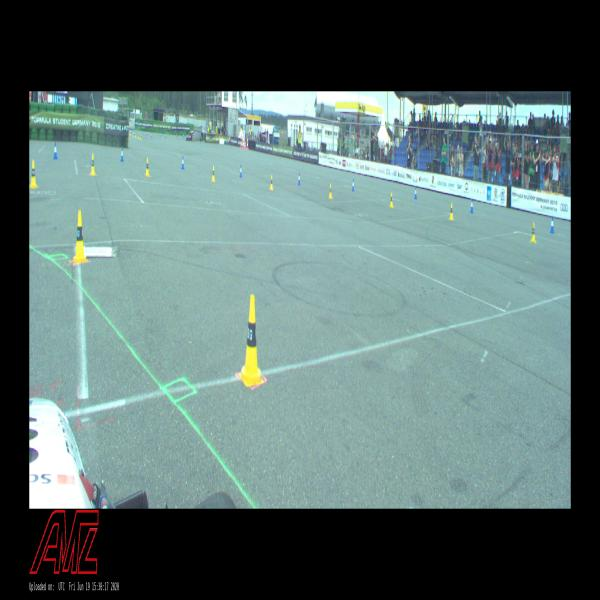blue_cone: (53, 142, 58, 159), (550, 216, 554, 233), (181, 155, 185, 170), (470, 198, 474, 213), (120, 147, 124, 161), (414, 187, 417, 199), (240, 164, 242, 177), (352, 179, 354, 191), (298, 173, 300, 184), (151, 133, 152, 137), (166, 134, 167, 138), (159, 134, 161, 136)
yellow_cone: (240, 293, 262, 381), (73, 210, 86, 263), (30, 160, 38, 188), (90, 154, 96, 176), (145, 158, 150, 175), (531, 222, 535, 242), (328, 184, 332, 198), (212, 165, 215, 182), (450, 203, 453, 220), (390, 192, 393, 208), (270, 175, 273, 189), (140, 134, 142, 140), (133, 132, 134, 137), (135, 133, 136, 138), (138, 133, 139, 138)
